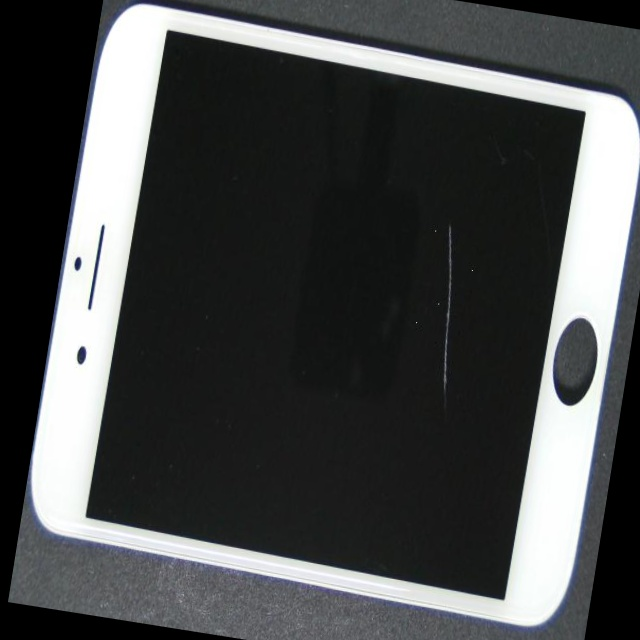scratch: (235, 84, 623, 364)
